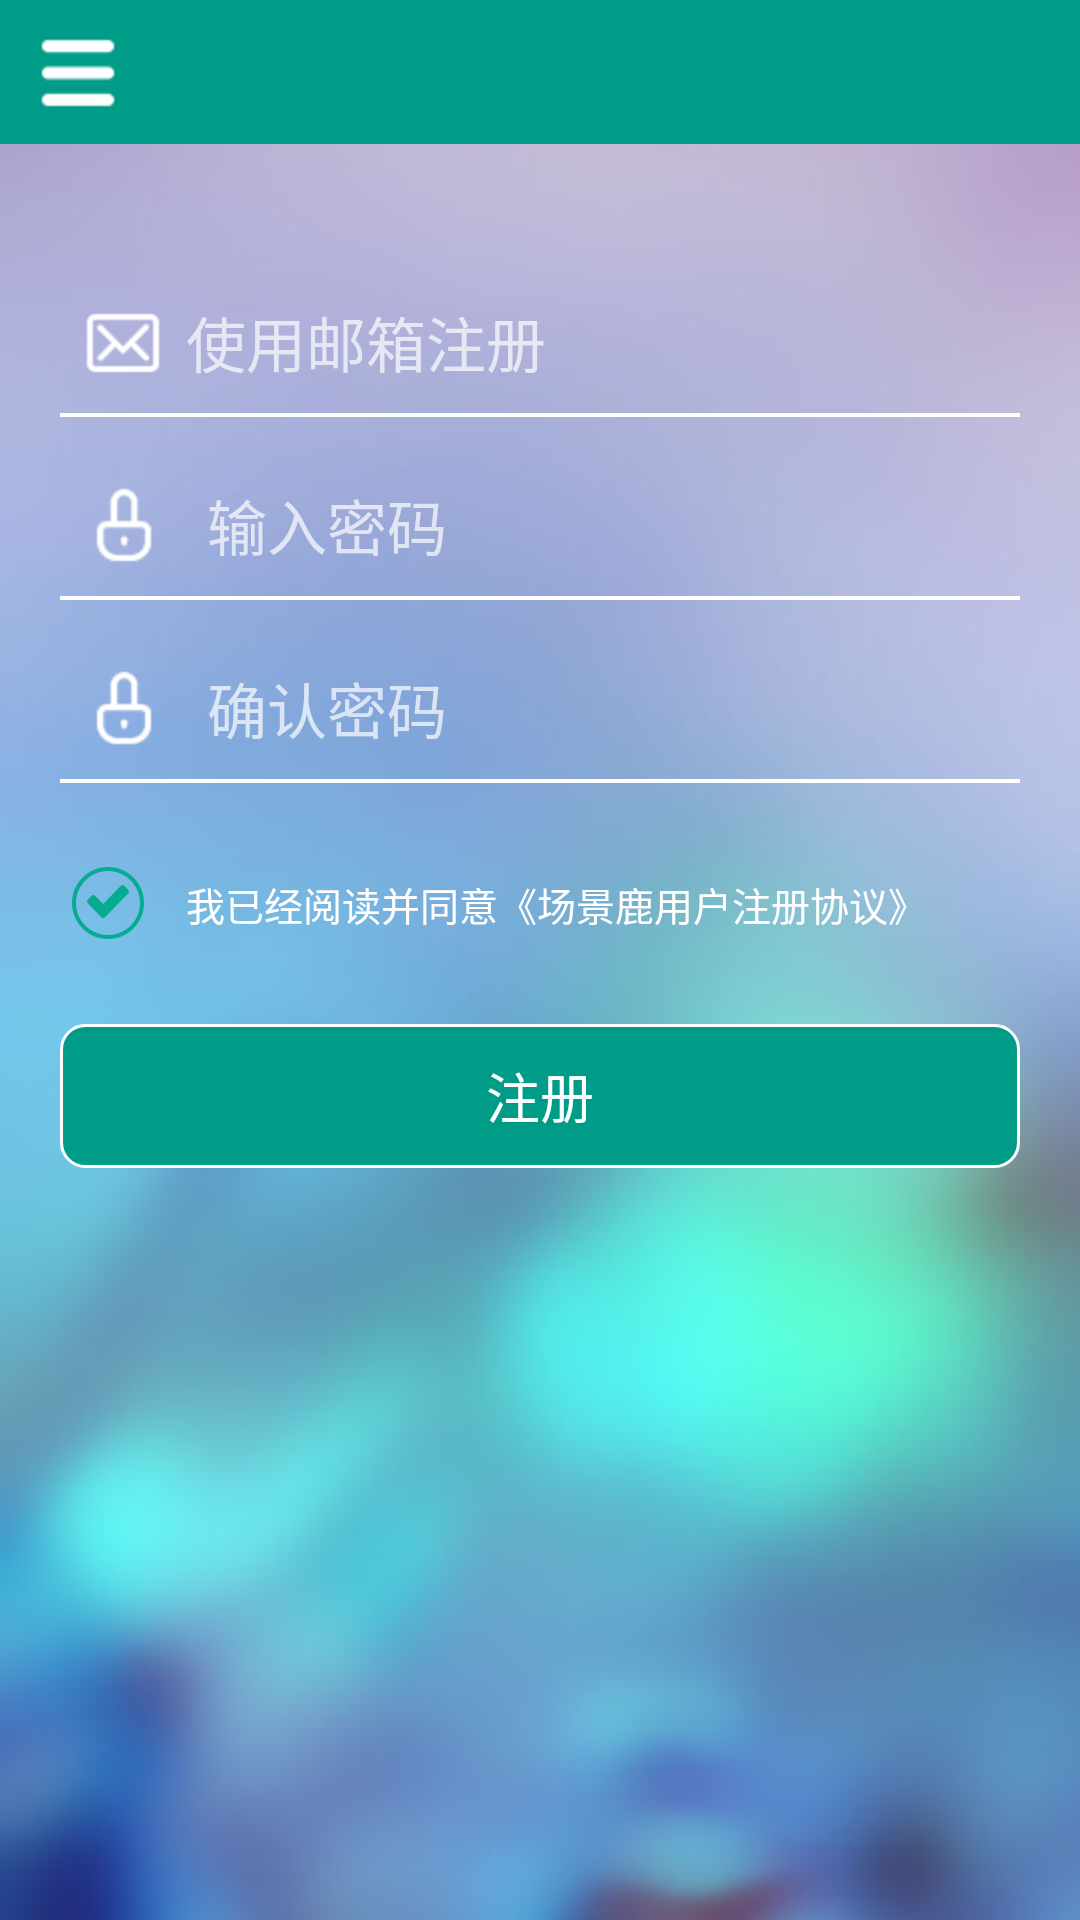

Icon bounding boxes for this 1080x1920 phone screenshot, format (x1, y1, x2, y2):
menu: (41, 39, 115, 107)
